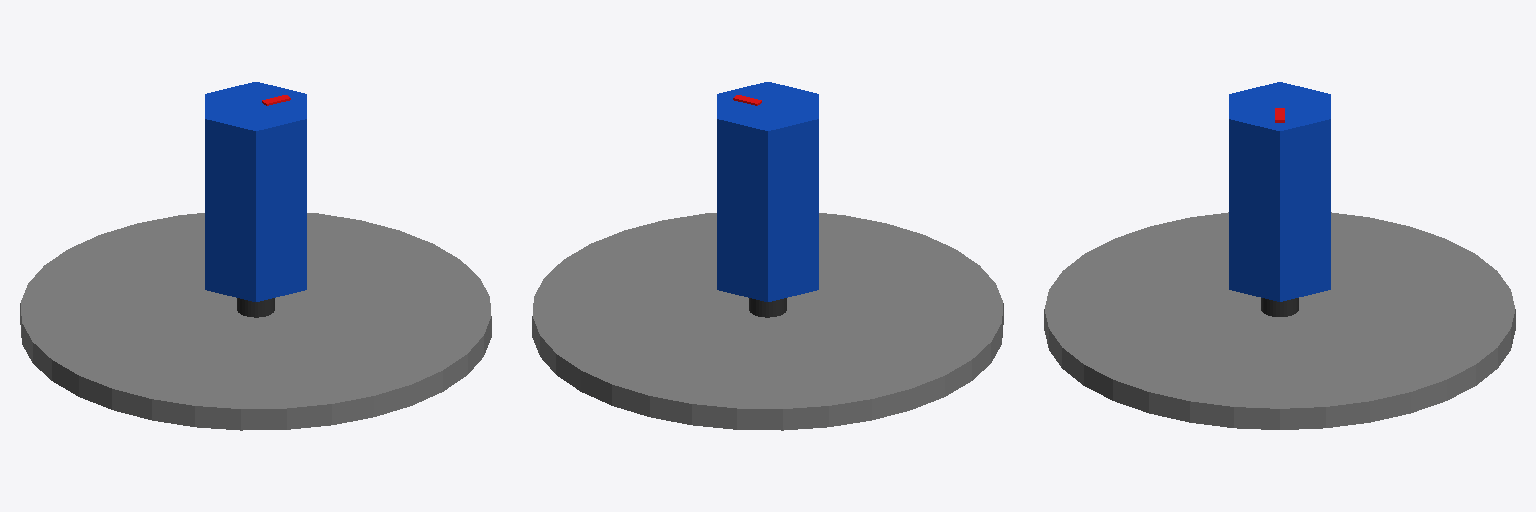
The robot description file, URDF, robot "vavledriver":
<?xml version="1.0"?>
<!-- 25 mm-radius variant of vavledriver_hex.urdf. Only the valve mesh XY
     scale changes: 30 mm * 5/6 = 25 mm; every other value is identical. -->
<robot name="vavledriver">
  <link name="base">
    <visual>
      <origin xyz="0 0 0"/>
      <geometry><cylinder radius="0.1" length="0.01"/></geometry>
      <material name="base_gray"><color rgba="0.55 0.55 0.55 1"/></material>
    </visual>
    <collision>
      <origin xyz="0 0 0"/>
      <geometry><cylinder radius="0.1" length="0.01"/></geometry>
    </collision>
    <inertial>
      <mass value="10.0"/>
      <origin xyz="0 0 0"/>
      <inertia ixx="0.02508" ixy="0" ixz="0" iyy="0.02508" iyz="0" izz="0.05"/>
    </inertial>
  </link>

  <link name="shaft">
    <visual>
      <origin xyz="0 0 0.01"/>
      <geometry><cylinder radius="0.008" length="0.02"/></geometry>
      <material name="shaft_dark"><color rgba="0.25 0.25 0.25 1"/></material>
    </visual>
    <collision>
      <origin xyz="0 0 0.01"/>
      <geometry><cylinder radius="0.008" length="0.02"/></geometry>
    </collision>
    <inertial>
      <mass value="0.012"/>
      <origin xyz="0 0 0.01"/>
      <inertia ixx="0.000000528" ixy="0" ixz="0" iyy="0.000000528" iyz="0" izz="0.000000384"/>
    </inertial>
  </link>

  <link name="valve">
    <visual>
      <origin xyz="0 0 0.04"/>
      <geometry><mesh filename="hex_valve.stl" scale="0.8333333333333333 0.8333333333333333 1.0"/></geometry>
      <material name="valve_blue"><color rgba="0.10 0.35 0.80 1"/></material>
    </visual>
    <collision>
      <origin xyz="0 0 0.04"/>
      <geometry><mesh filename="hex_valve.stl" scale="0.8333333333333333 0.8333333333333333 1.0"/></geometry>
    </collision>
    <inertial>
      <mass value="0.05"/>
      <origin xyz="0 0 0.04"/>
      <inertia ixx="0.000036042" ixy="0" ixz="0" iyy="0.000036042" iyz="0" izz="0.000018750"/>
    </inertial>
    <!-- Asymmetric visual marker makes rotation easy to inspect in the viewer. -->
    <visual>
      <origin xyz="0.010 0 0.0805"/>
      <geometry><box size="0.012 0.004 0.001"/></geometry>
      <material name="marker_red"><color rgba="0.95 0.10 0.10 1"/></material>
    </visual>
  </link>

  <joint name="base_to_shaft" type="fixed">
    <parent link="base"/>
    <child link="shaft"/>
    <origin xyz="0 0 0" rpy="0 0 0"/>
  </joint>

  <joint name="valve_to_shaft" type="revolute">
    <parent link="shaft"/>
    <child link="valve"/>
    <origin xyz="0 0 0.02" rpy="0 0 0"/>
    <axis xyz="0 0 -1"/>
    <dynamics friction="0.2"/>
    <limit lower="0.0" upper="628.3185" effort="2.0" velocity="6.2832"/>
  </joint>
</robot>

--- What the picture shows (computed from the rendered views, not written in the file) ---
3 views of the same robot in one strip: view 1: azimuth 30°, elevation 25°; view 2: azimuth 150°, elevation 25°; view 3: azimuth 270°, elevation 25° (orthographic).
Model vavledriver with 3 links and 2 joints (1 revolute, 1 fixed), rooted at base, posed every joint at zero.
Links seen in each view (by area): view 1: base, valve, shaft; view 2: base, valve, shaft; view 3: base, valve, shaft.
Link boxes in pixels (left/top/right/bottom): base: left=20, top=213, right=491, bottom=430; valve: left=205, top=82, right=306, bottom=301; shaft: left=237, top=298, right=274, bottom=317; base: left=532, top=213, right=1003, bottom=430; valve: left=717, top=82, right=818, bottom=301; shaft: left=749, top=298, right=786, bottom=317; base: left=1044, top=212, right=1515, bottom=429; valve: left=1229, top=82, right=1330, bottom=301; shaft: left=1261, top=298, right=1298, bottom=316.
Bounding box of the posed robot: 0.2 × 0.2 × 0.106 m (x, y, z).
Meshes: 1 distinct files referenced, 1 mesh visuals loaded (1 ASCII STL).
